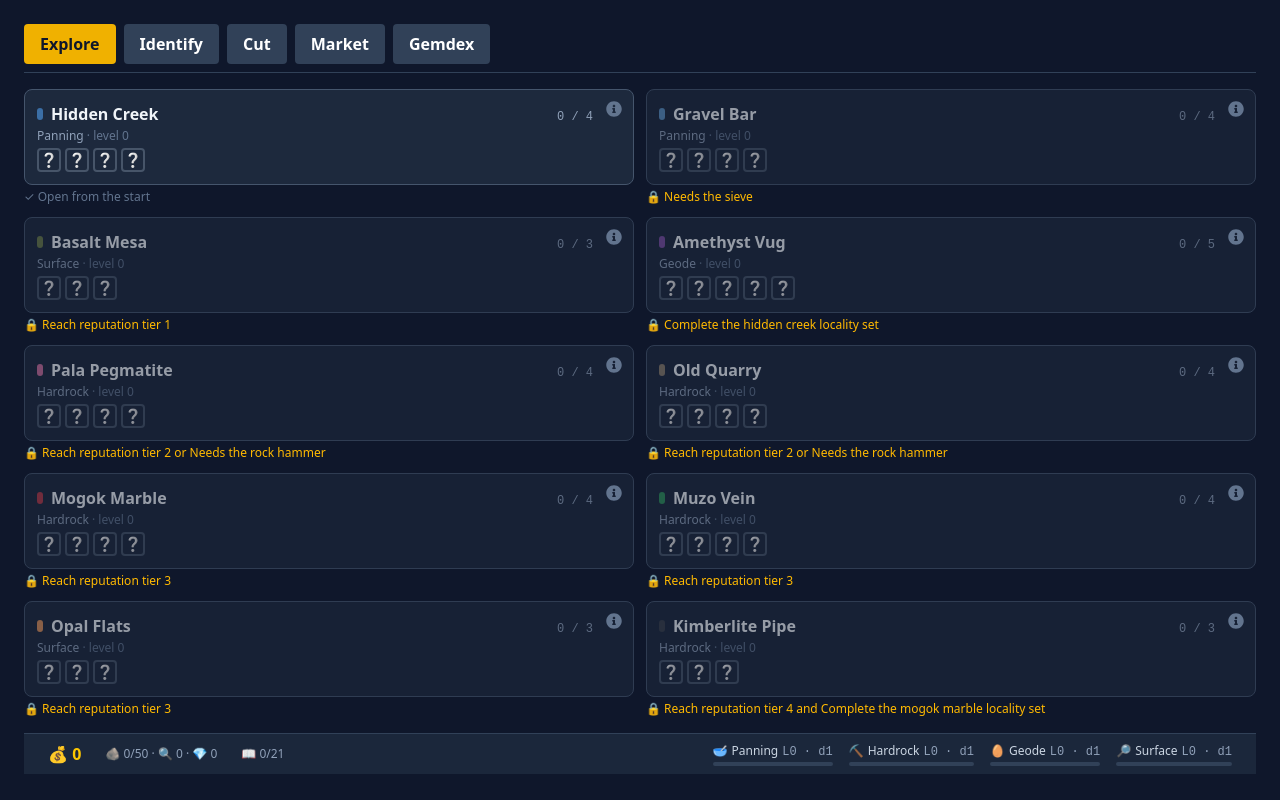
Explore map and run are separate screens › returns to the map from the run screen
The width and height of the screenshot is (1280, 800).
Click the button with aria-label "Hidden Creek,". click: {"x": 105, "y": 114}
box: [24,89,634,185]
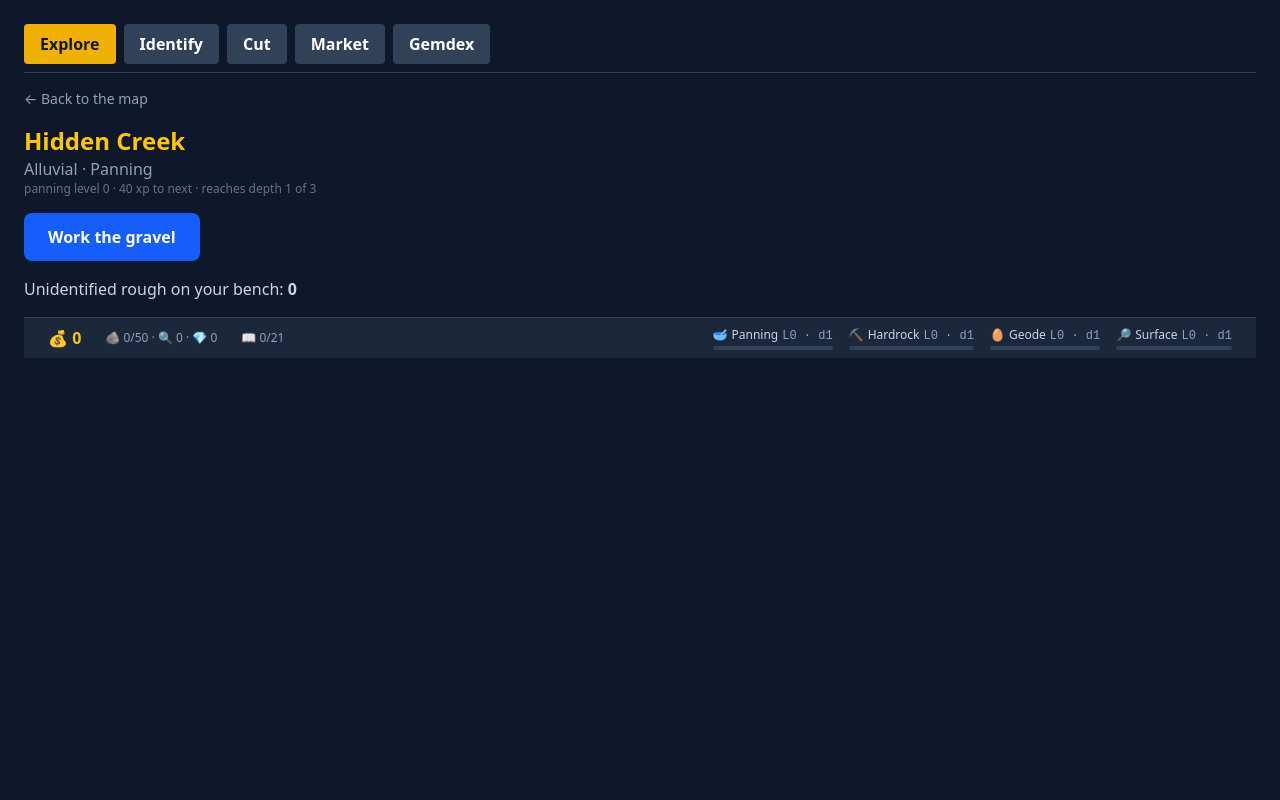
Click the button "← Back to the map". click: {"x": 86, "y": 99}
box: [24,89,148,109]
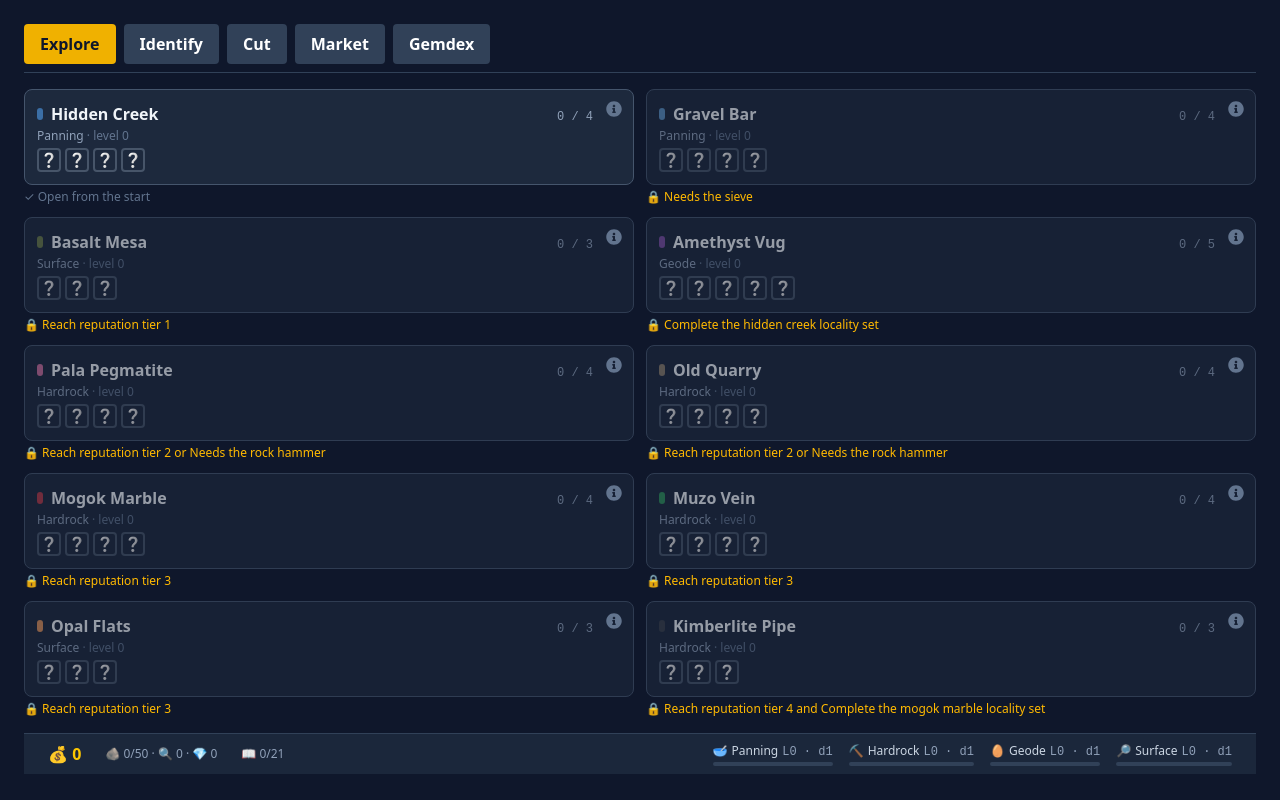
expect the button with aria-label "Gravel Bar," is shown: met, box [646,89,1256,185]
